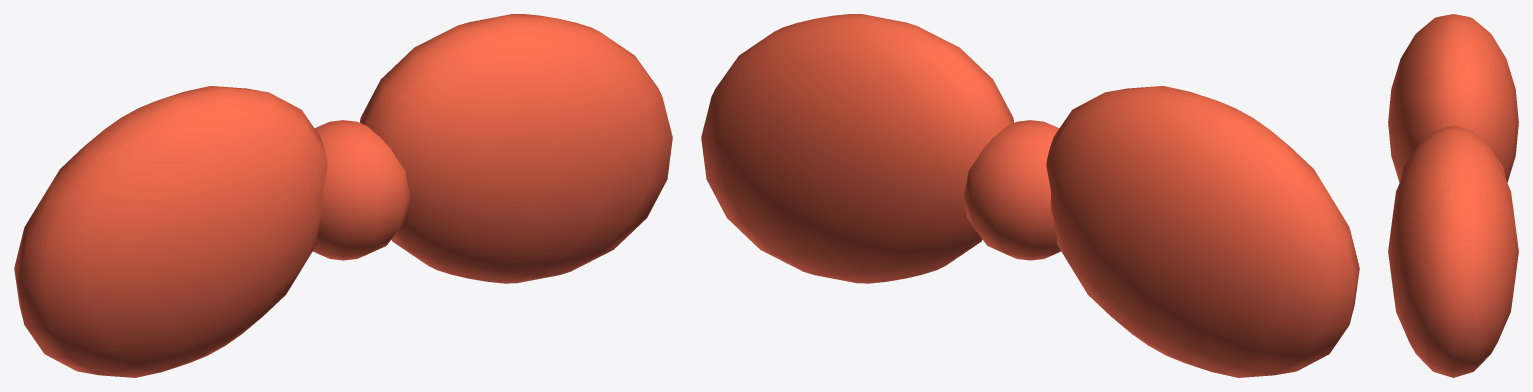
File: acc_bow.glb
3 views of the same model, side by side, from view 1: azimuth 30°, elevation 25°; view 2: azimuth 150°, elevation 25°; view 3: azimuth 270°, elevation 25° (orthographic). The views are drawn at different scales.
Parts seen in each view (by area): view 1: Accessory; view 2: Accessory; view 3: Accessory.
Part boxes in pixels (x1,y1,x2,y2): Accessory: [14, 14, 672, 377]; Accessory: [701, 14, 1359, 377]; Accessory: [1388, 14, 1518, 377].
Size of the model in its own units: 1.07 by 0.4125 by 0.24.
